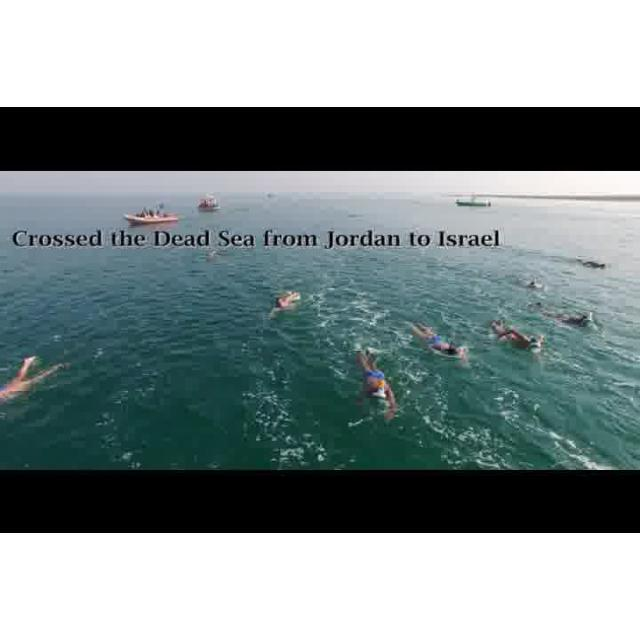human: (1, 351, 66, 404), (355, 354, 395, 422), (413, 319, 470, 364), (489, 321, 544, 354), (268, 284, 309, 322)
